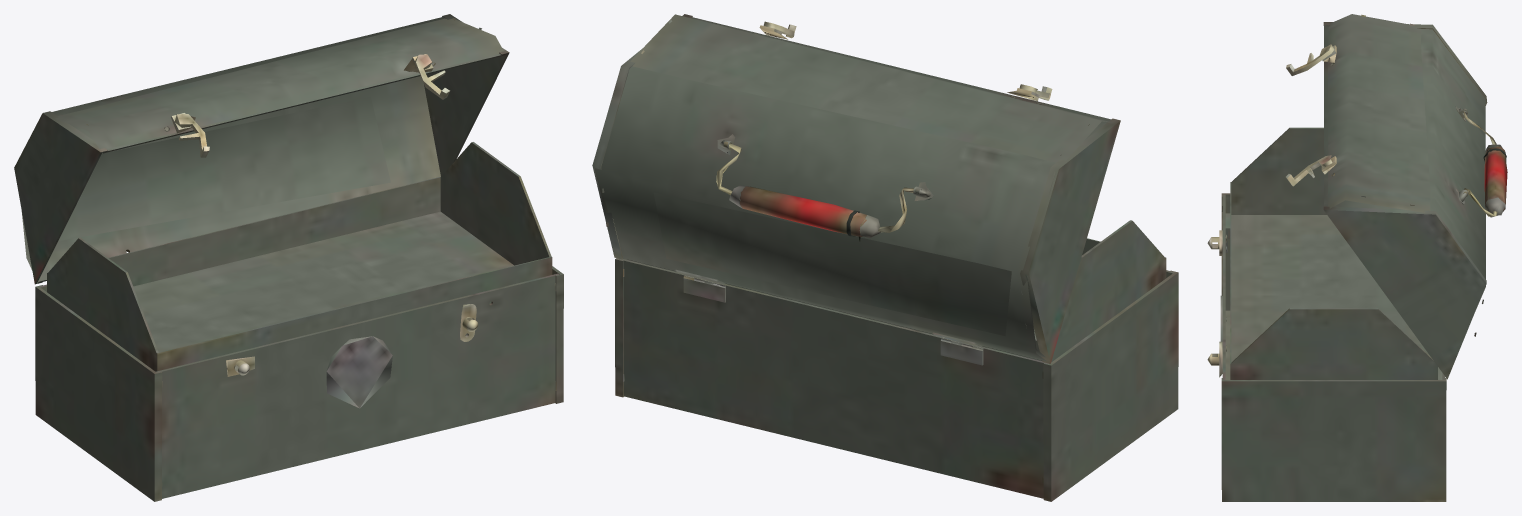
Rendered from metal_toolbox.glb.
The picture shows the model from 3 angles, left to right: view 1: azimuth 30°, elevation 25°; view 2: azimuth 150°, elevation 25°; view 3: azimuth 270°, elevation 25°; orthographic projection. The views are drawn at different scales.
Visible parts, largest first — view 1: metal_toolbox_lid, metal_toolbox, metal_toolbox_tray, metal_toolbox_handle_latch_r, metal_toolbox_handle_latch_l; view 2: metal_toolbox_lid, metal_toolbox, metal_toolbox_tray, metal_toolbox_handle; view 3: metal_toolbox_lid, metal_toolbox_tray, metal_toolbox, metal_toolbox_handle, metal_toolbox_handle_latch_l, metal_toolbox_handle_latch_r.
Boxes of the visible parts, left/top/right/bottom form: metal_toolbox_lid: left=14, top=14, right=509, bottom=284; metal_toolbox: left=35, top=266, right=563, bottom=501; metal_toolbox_tray: left=47, top=142, right=552, bottom=371; metal_toolbox_handle_latch_r: left=414, top=54, right=449, bottom=99; metal_toolbox_handle_latch_l: left=174, top=114, right=209, bottom=157; metal_toolbox_lid: left=592, top=14, right=1120, bottom=363; metal_toolbox: left=615, top=258, right=1178, bottom=501; metal_toolbox_tray: left=627, top=220, right=1166, bottom=361; metal_toolbox_handle: left=716, top=143, right=913, bottom=241; metal_toolbox_lid: left=1321, top=14, right=1487, bottom=379; metal_toolbox_tray: left=1230, top=127, right=1437, bottom=379; metal_toolbox: left=1207, top=193, right=1446, bottom=501; metal_toolbox_handle: left=1463, top=111, right=1507, bottom=217; metal_toolbox_handle_latch_l: left=1286, top=44, right=1334, bottom=75; metal_toolbox_handle_latch_r: left=1286, top=155, right=1332, bottom=186.
Size of the model in its own units: 0.4 by 0.3044 by 0.2698.
1 material, 1 textured.
